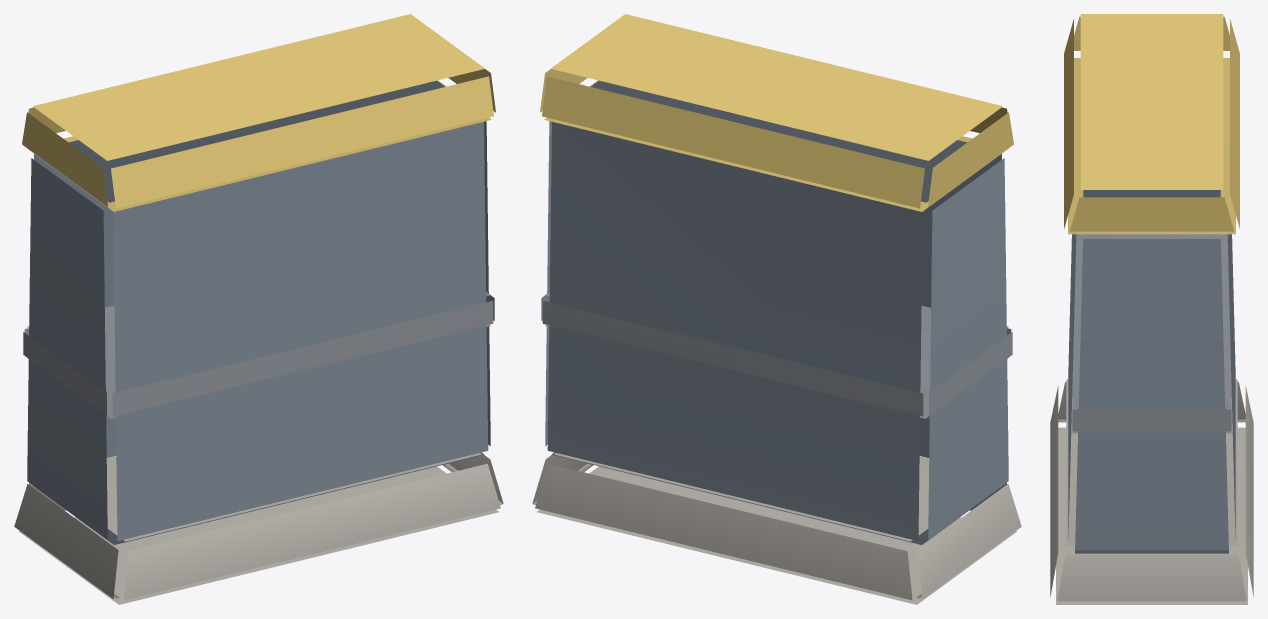
Rendered from wall_lv3_connector_lod2.glb.
The picture shows the model from 3 angles, left to right: view 1: azimuth 30°, elevation 25°; view 2: azimuth 150°, elevation 25°; view 3: azimuth 270°, elevation 25°; orthographic projection. The views are drawn at different scales.
Parts seen in each view (by area): view 1: wall_lv3_connector.001; view 2: wall_lv3_connector.001; view 3: wall_lv3_connector.001.
Boxes of the visible parts, x1,y1,x2,y2 form: wall_lv3_connector.001: [14, 14, 503, 604]; wall_lv3_connector.001: [532, 14, 1021, 604]; wall_lv3_connector.001: [1050, 14, 1253, 604].
Size of the model in its own units: 1.59 by 1.69 by 0.7515.
